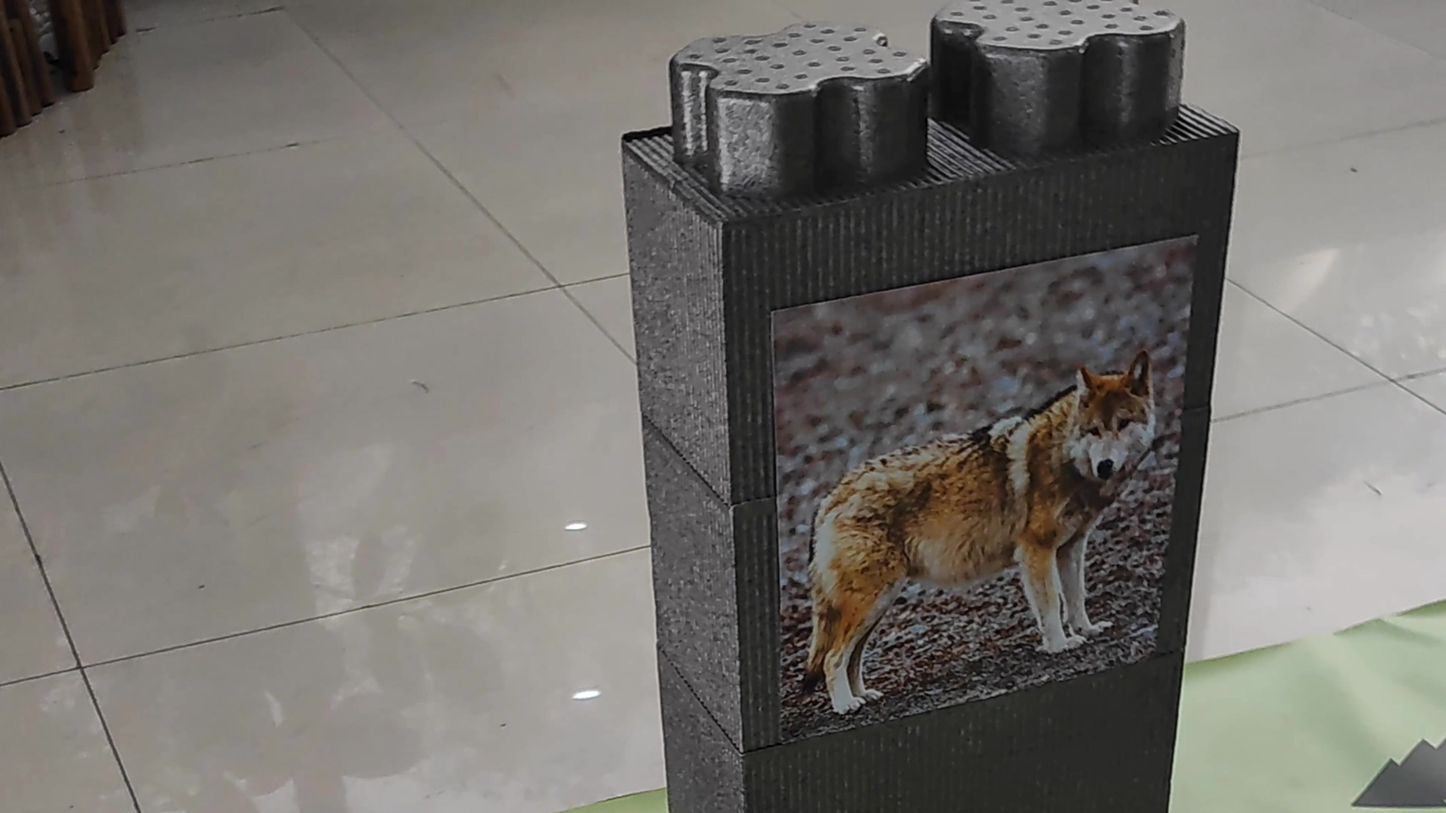wolf: (782, 322, 1163, 700)
